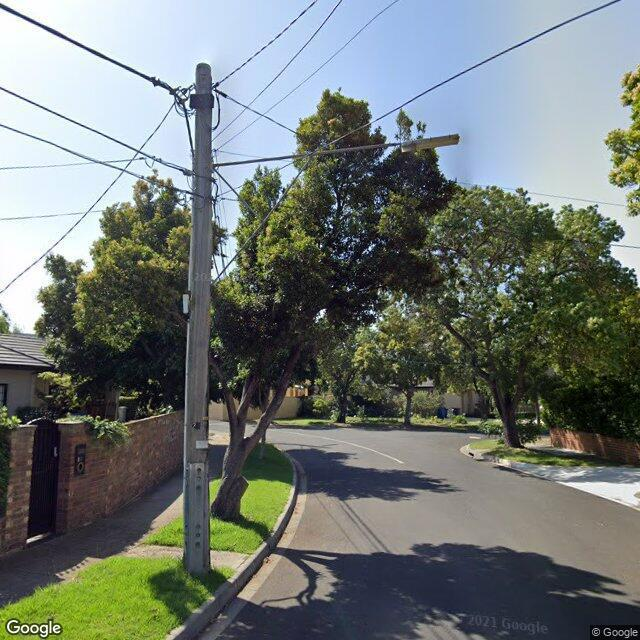streetlight: (213, 132, 460, 169)
timber-pole: (183, 60, 214, 572)
